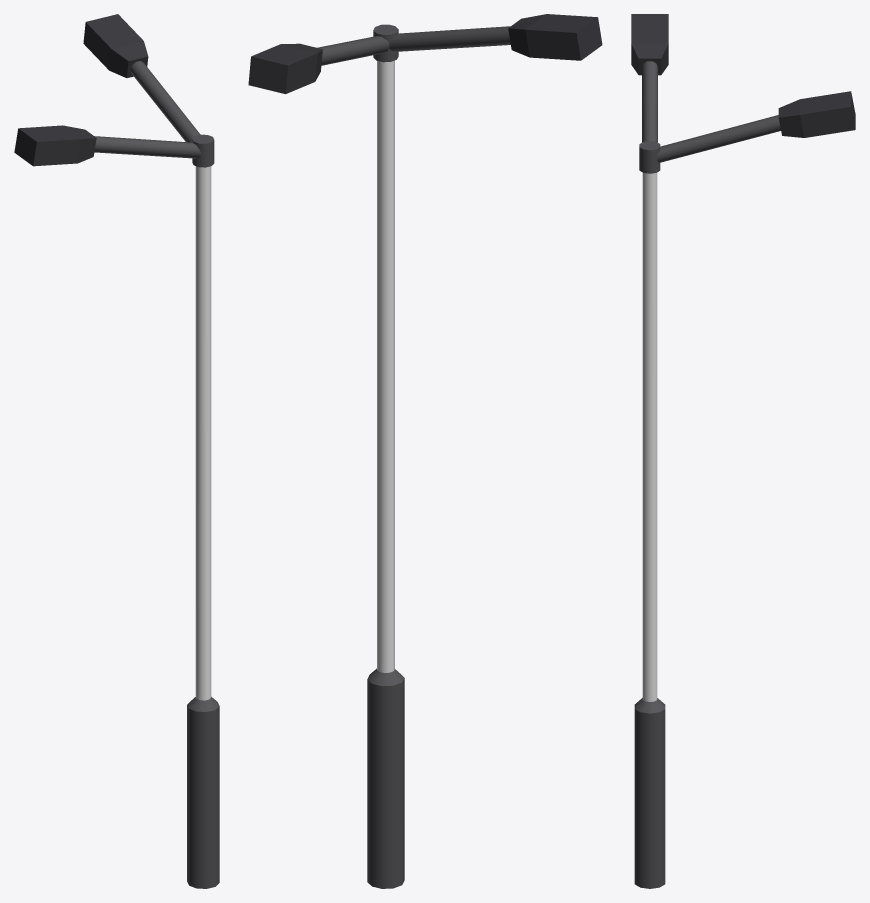
The model's file is StreetLamp1_c_LP_LOD0.FBX.
3 views of the same model, side by side, from view 1: azimuth 30°, elevation 25°; view 2: azimuth 150°, elevation 25°; view 3: azimuth 270°, elevation 25° (orthographic). The views are drawn at different scales.
Visible parts, largest first — view 1: StreetLamp1_c_LP_LOD0; view 2: StreetLamp1_c_LP_LOD0; view 3: StreetLamp1_c_LP_LOD0.
Boxes of the visible parts, <box> form: StreetLamp1_c_LP_LOD0: <box>14,14,219,888</box>; StreetLamp1_c_LP_LOD0: <box>248,14,602,888</box>; StreetLamp1_c_LP_LOD0: <box>631,14,855,888</box>.
Bounding box in the file's own units: 2.63 × 10.13 × 2.63.
